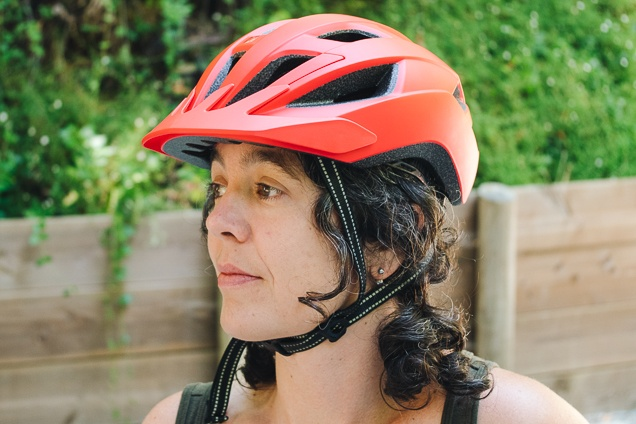helmet: (133, 12, 487, 201)
